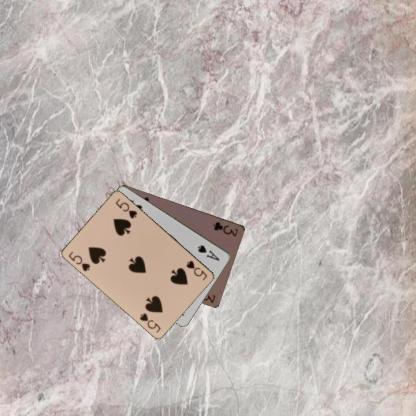3c: (211, 219, 240, 237)
5s: (66, 249, 92, 273), (184, 258, 208, 282)
As: (195, 242, 221, 262)
